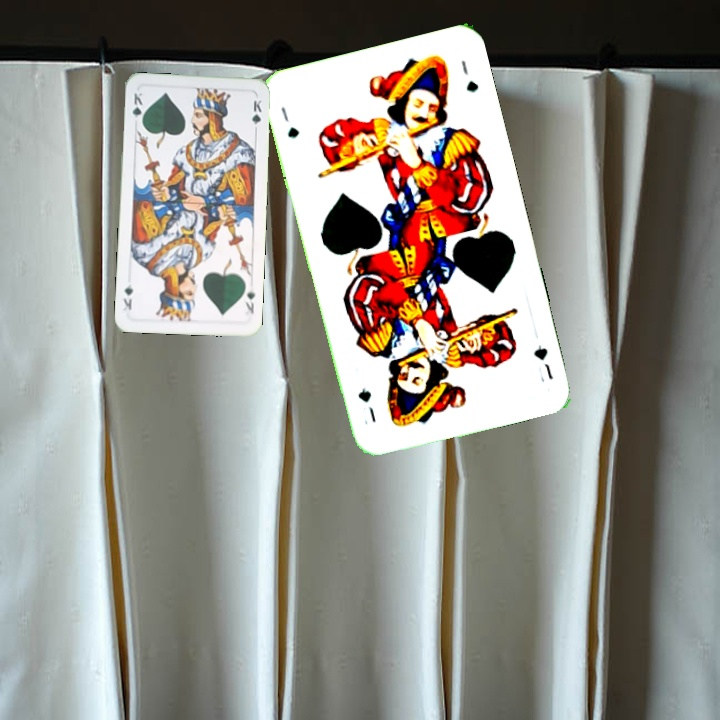GK: (128, 89, 145, 128), (241, 284, 257, 316)
GU: (529, 340, 556, 385), (277, 103, 302, 141)
